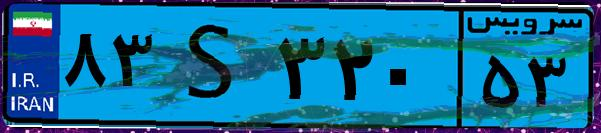0: (385, 28, 445, 110)
2: (330, 28, 385, 110)
3: (270, 28, 330, 110), (525, 38, 570, 115), (110, 28, 158, 98)
5: (475, 38, 525, 113)
8: (57, 26, 110, 100)
S: (158, 12, 270, 120)
